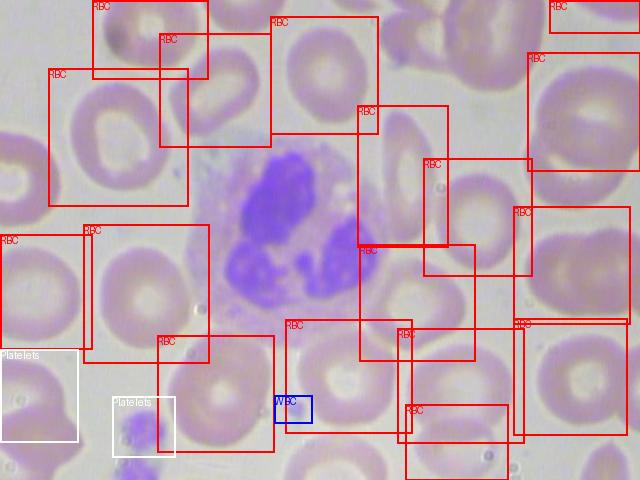Platelets: (0, 349, 78, 442), (112, 396, 175, 457)
RBC: (48, 68, 188, 206), (83, 224, 209, 363), (397, 328, 524, 443), (285, 319, 412, 433), (513, 206, 630, 324), (157, 335, 274, 452), (359, 244, 475, 361), (527, 52, 640, 171), (513, 318, 627, 435), (357, 105, 448, 247), (423, 158, 532, 276), (159, 33, 271, 147), (270, 16, 378, 134), (0, 234, 92, 349), (92, 0, 208, 79), (405, 404, 508, 480), (549, 0, 640, 33)
WBC: (274, 395, 312, 423)
